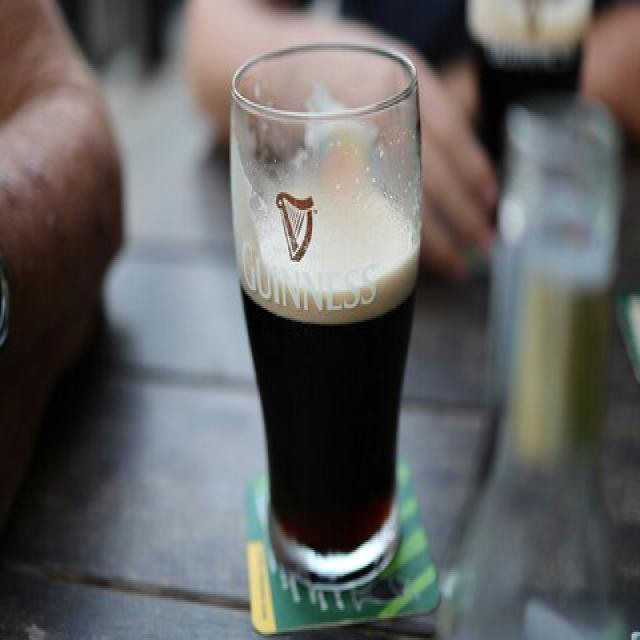too_low_glass: (230, 42, 424, 592)
